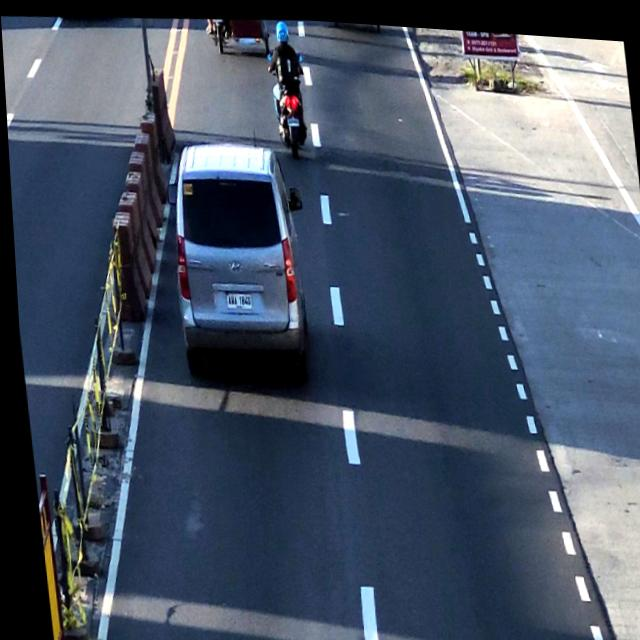Car: (159, 130, 306, 374)
License-Plate: (220, 286, 253, 313), (285, 111, 299, 125)
Motorcycle: (267, 15, 310, 151)
